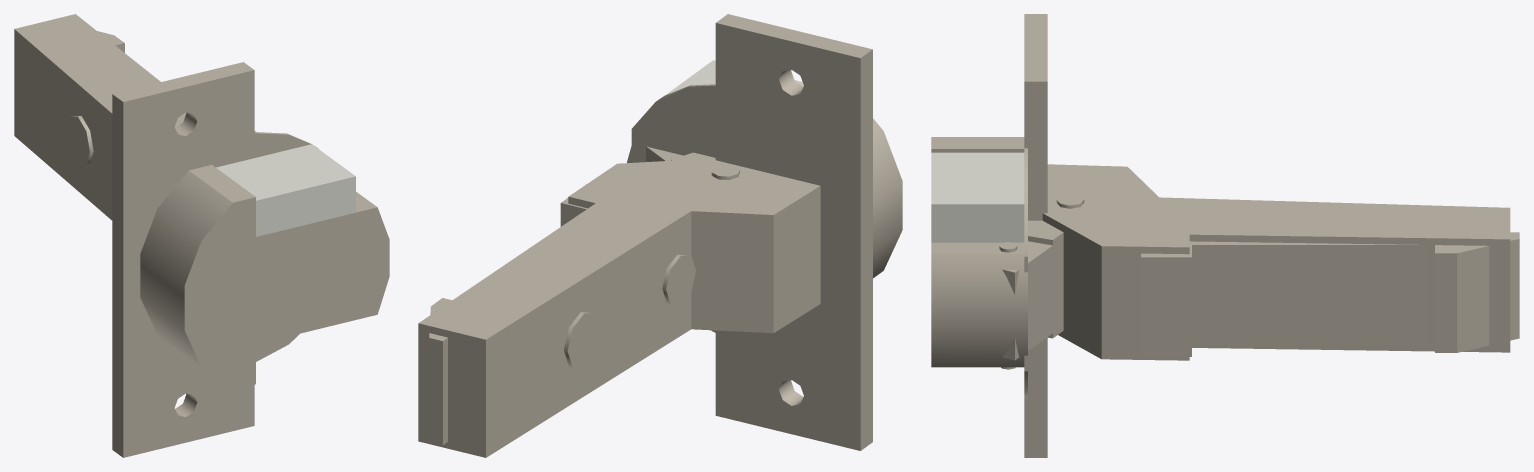
The picture shows the model from 3 angles, left to right: view 1: azimuth 30°, elevation 25°; view 2: azimuth 150°, elevation 25°; view 3: azimuth 270°, elevation 25°; orthographic projection. The views are drawn at different scales.
Visible parts, largest first — view 1: bau2460033743-1, bau2460631794-1; view 2: bau2460631794-1, bau2460033743-1, bau0019426112-1, bau2460027380-1; view 3: bau2460631794-1, bau0019426112-1, bau2460033743-1, bau2460027380-1.
Part boxes in pixels (left/top/right/bottom): bau2460033743-1: left=112, top=62, right=389, bottom=457; bau2460631794-1: left=14, top=14, right=255, bottom=220; bau2460631794-1: left=418, top=158, right=820, bottom=457; bau2460033743-1: left=627, top=14, right=902, bottom=450; bau0019426112-1: left=429, top=184, right=587, bottom=445; bau2460027380-1: left=646, top=146, right=715, bottom=161; bau2460631794-1: left=1042, top=164, right=1510, bottom=360; bau0019426112-1: left=1141, top=232, right=1519, bottom=356; bau2460033743-1: left=931, top=14, right=1047, bottom=457; bau2460027380-1: left=1002, top=220, right=1063, bottom=360.
Bounding box in the file's own units: 37.24 × 57 × 80.8.
